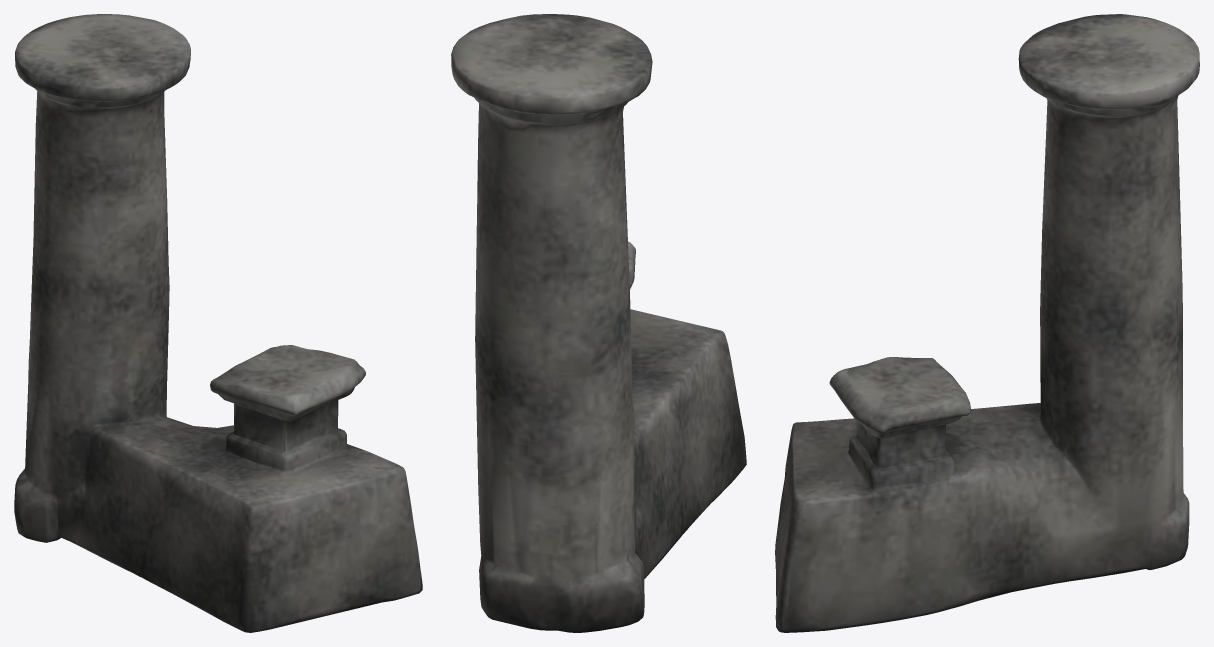
Rendered from ornate-granite-chimney-stack-v001.glb.
3 renders of one model, left to right at view 1: azimuth 30°, elevation 25°; view 2: azimuth 150°, elevation 25°; view 3: azimuth 270°, elevation 25°, orthographic. The views are drawn at different scales.
Visible parts, largest first — view 1: ornate-granite-chimney-stack; view 2: ornate-granite-chimney-stack; view 3: ornate-granite-chimney-stack.
Boxes of the visible parts, bbox=[...] form: ornate-granite-chimney-stack: bbox=[14, 14, 422, 632]; ornate-granite-chimney-stack: bbox=[451, 14, 746, 632]; ornate-granite-chimney-stack: bbox=[775, 14, 1199, 632].
Size of the model in its own units: 1.06 by 1.94 by 1.5.
Materials: 1 (1 with a texture image).
